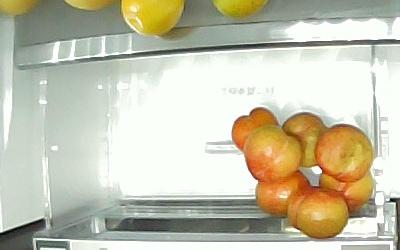prune: (243, 122, 302, 181), (314, 123, 373, 182), (286, 184, 348, 239), (253, 168, 311, 218), (281, 111, 326, 168), (231, 106, 280, 153), (317, 171, 373, 208)
